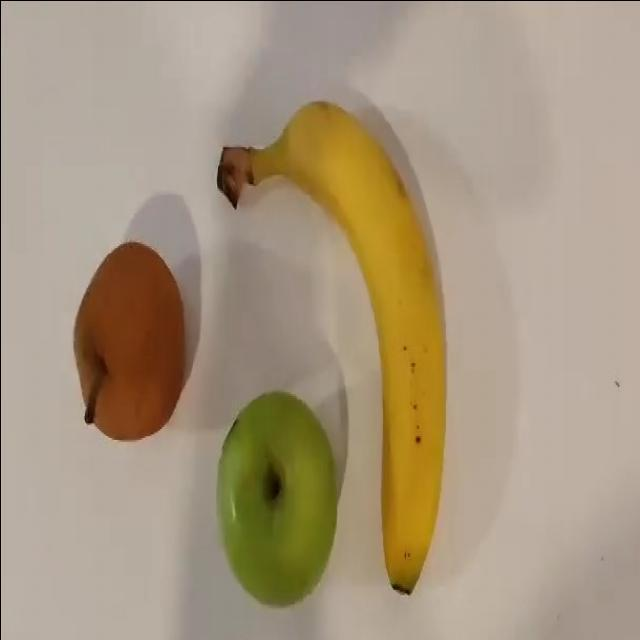Apple: (215, 390, 338, 606)
Banana: (215, 99, 447, 596)
